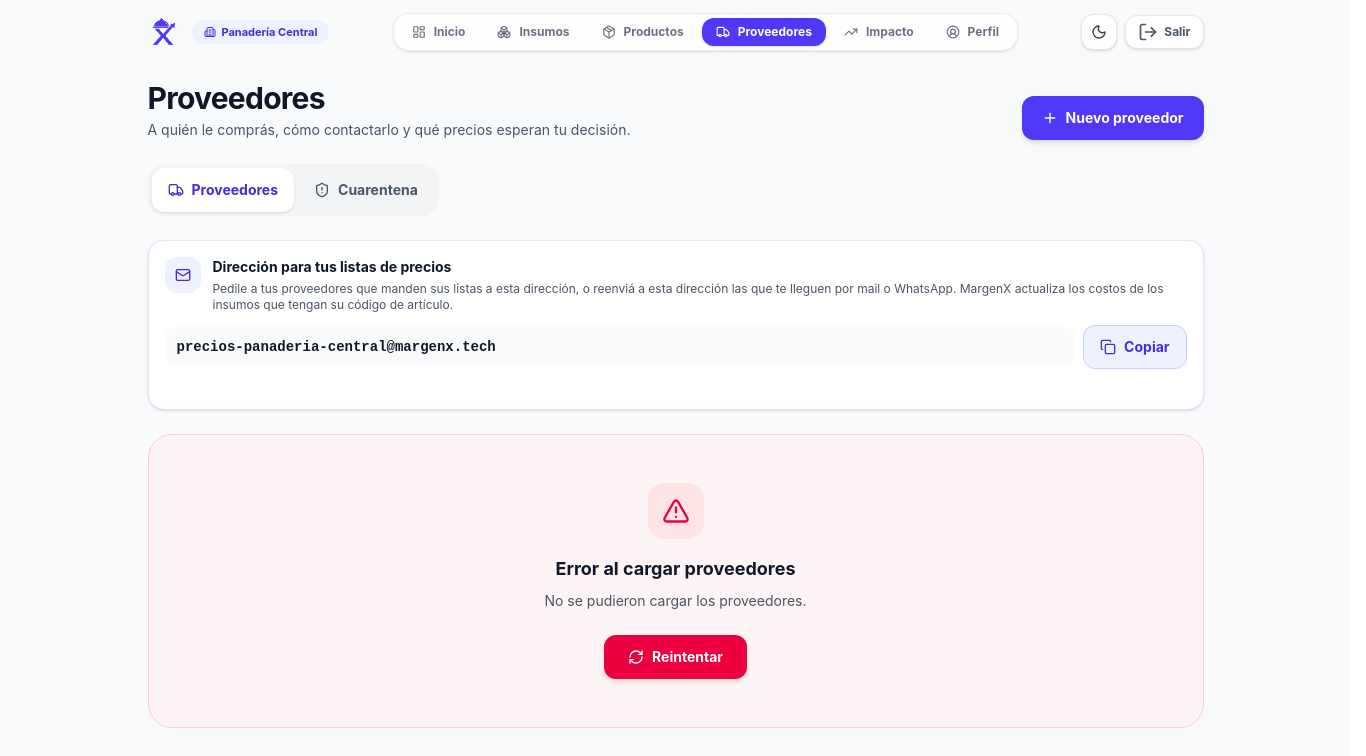
Test case: SuppliersPageContent › si la carga falla muestra el error con Reintentar y recupera la lista
Check: the message shows "No se pudieron cargar los proveedores.", box [544, 592, 806, 609]
Check: the text "Proveedores activos" is not shown
Step 1. Click the button "Reintentar" → [676, 657], box [604, 635, 747, 679]
(page scrolled)
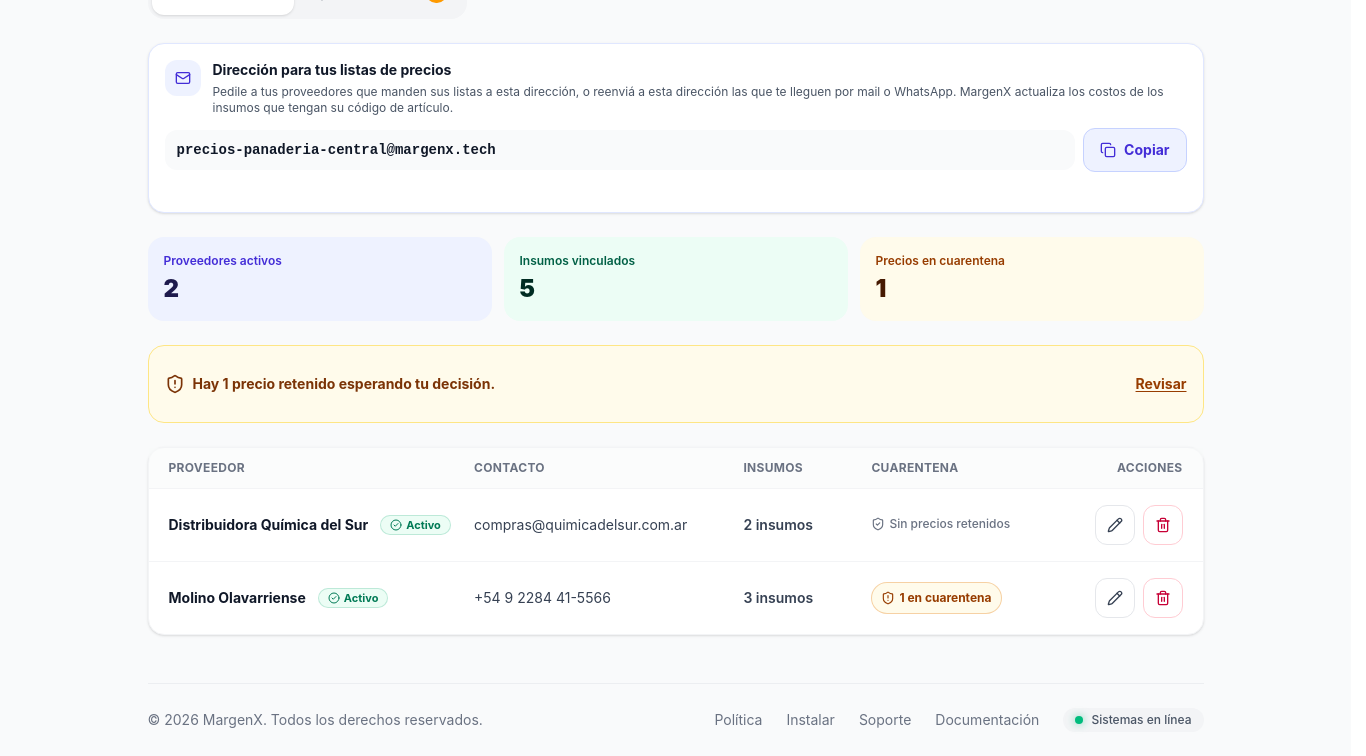
Check: the list named "Proveedores" is shown, box [148, 489, 1202, 634]
Check: the message "Error al cargar proveedores No se pudieron cargar los proveedores. Reintentar" is gone
